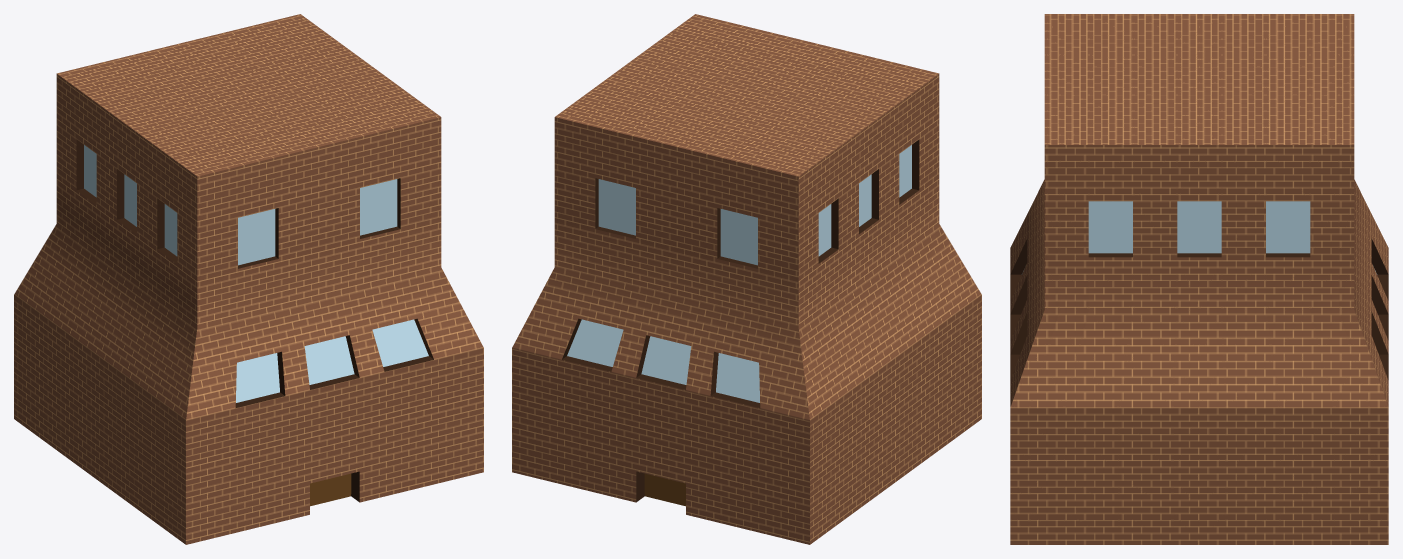
File: mediumBase.fbx
3 views of the same model, side by side, from view 1: azimuth 30°, elevation 25°; view 2: azimuth 150°, elevation 25°; view 3: azimuth 270°, elevation 25° (orthographic). The views are drawn at different scales.
Parts seen in each view (by area): view 1: pCube1; view 2: pCube1; view 3: pCube1.
Part boxes in pixels (x1=…): pCube1: x1=14, y1=14, x2=483, y2=544; pCube1: x1=512, y1=14, x2=981, y2=544; pCube1: x1=1010, y1=14, x2=1388, y2=544.
Bounding box in the file's own units: 10 × 11.25 × 10.
1 material, 1 textured.
